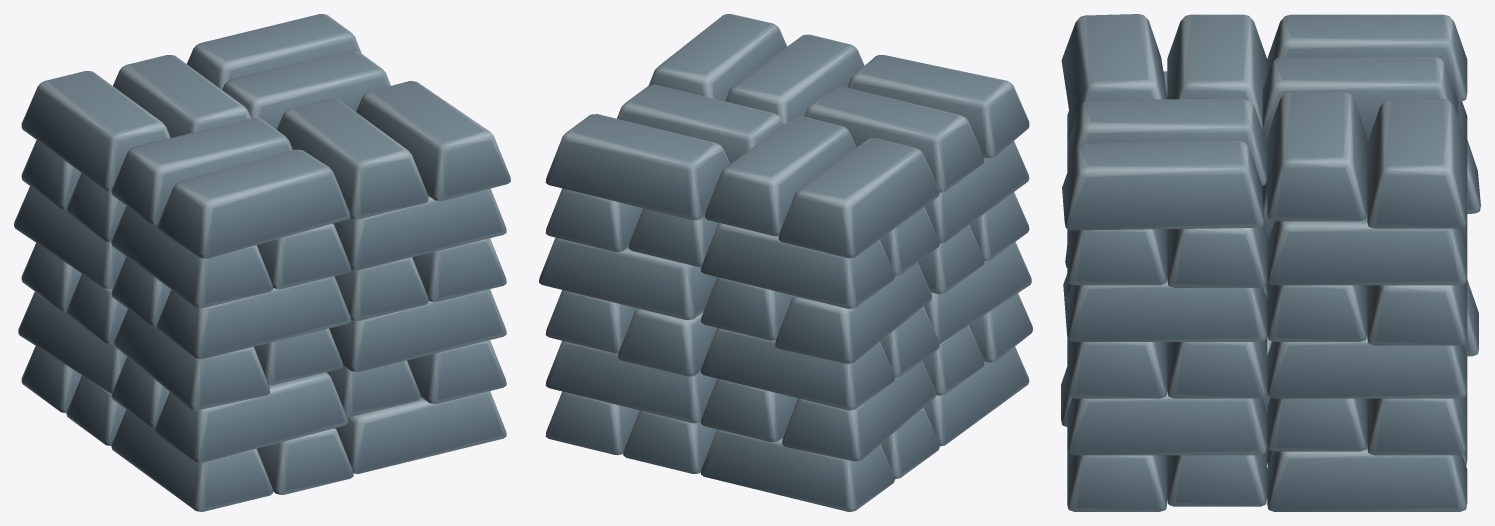
The model's file is iron_bars_stack_large.glb.
3 views of the same model, side by side, from view 1: azimuth 30°, elevation 25°; view 2: azimuth 150°, elevation 25°; view 3: azimuth 270°, elevation 25° (orthographic). The views are drawn at different scales.
Parts seen in each view (by area): view 1: Iron_Bars_Stack_Large; view 2: Iron_Bars_Stack_Large; view 3: Iron_Bars_Stack_Large.
Boxes of the visible parts, x1=… form: Iron_Bars_Stack_Large: x1=14, y1=14, x2=510, y2=511; Iron_Bars_Stack_Large: x1=539, y1=14, x2=1032, y2=511; Iron_Bars_Stack_Large: x1=1061, y1=14, x2=1480, y2=511.
Bounding box in the file's own units: 0.9946 × 0.9 × 1.01.
Materials: 1 (1 with a texture image).
